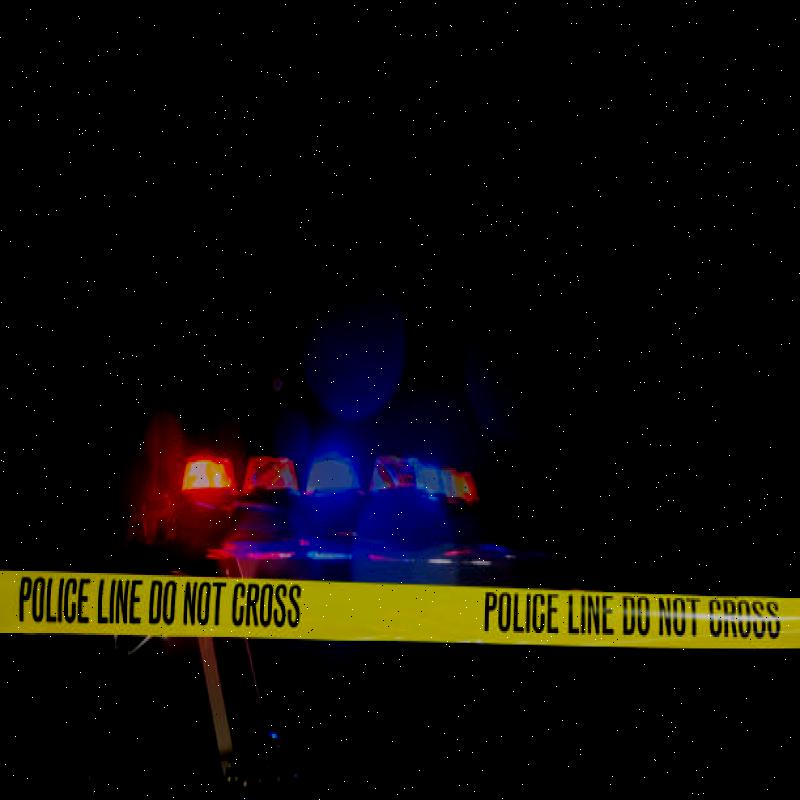AmbulanceSiren: (172, 428, 490, 532)
